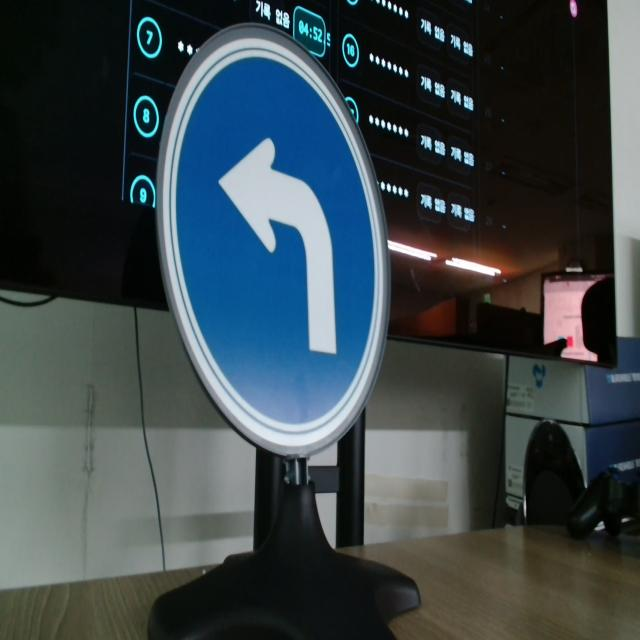left_direction: (160, 16, 396, 466)
